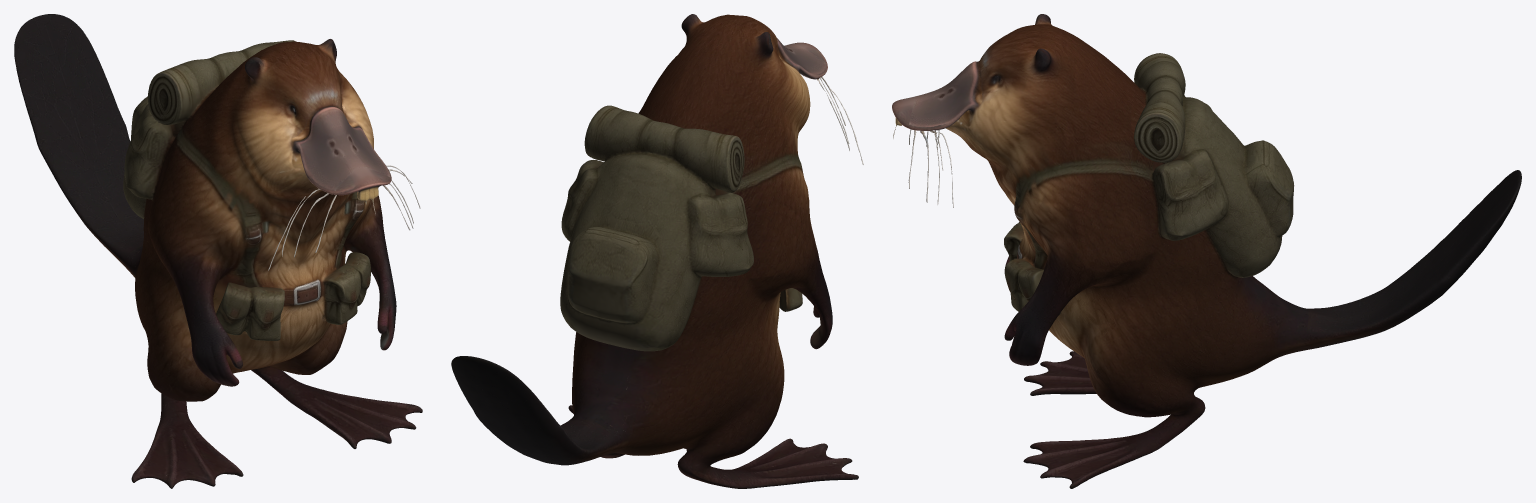
The model's file is quilan.glb.
3 views of the same model, side by side, from view 1: azimuth 30°, elevation 25°; view 2: azimuth 150°, elevation 25°; view 3: azimuth 270°, elevation 25° (orthographic). The views are drawn at different scales.
Size of the model in its own units: 0.9588 by 1.3 by 1.9.
Materials: 1 (1 with a texture image).
